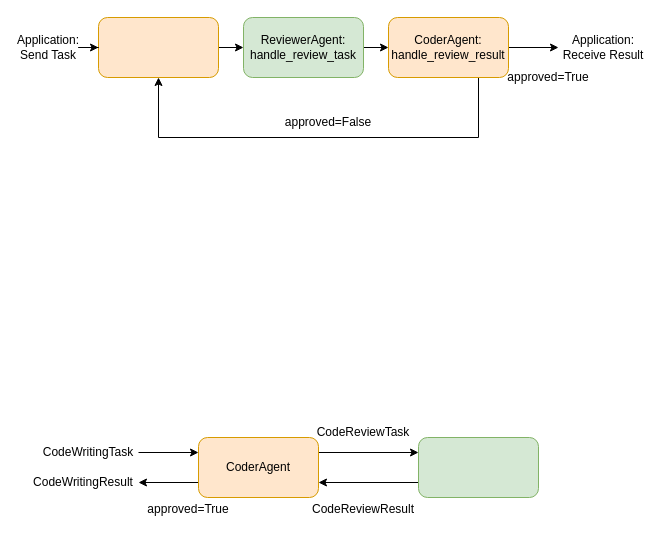
Some shapes in this 665 by 542 pixel diagram are drawn without their labels. Each missing label, with the centre of its shape:
"CoderAgent: handle_writing_task" goes at (x=158, y=47).
"ReviewerAgent" goes at (x=478, y=467).
